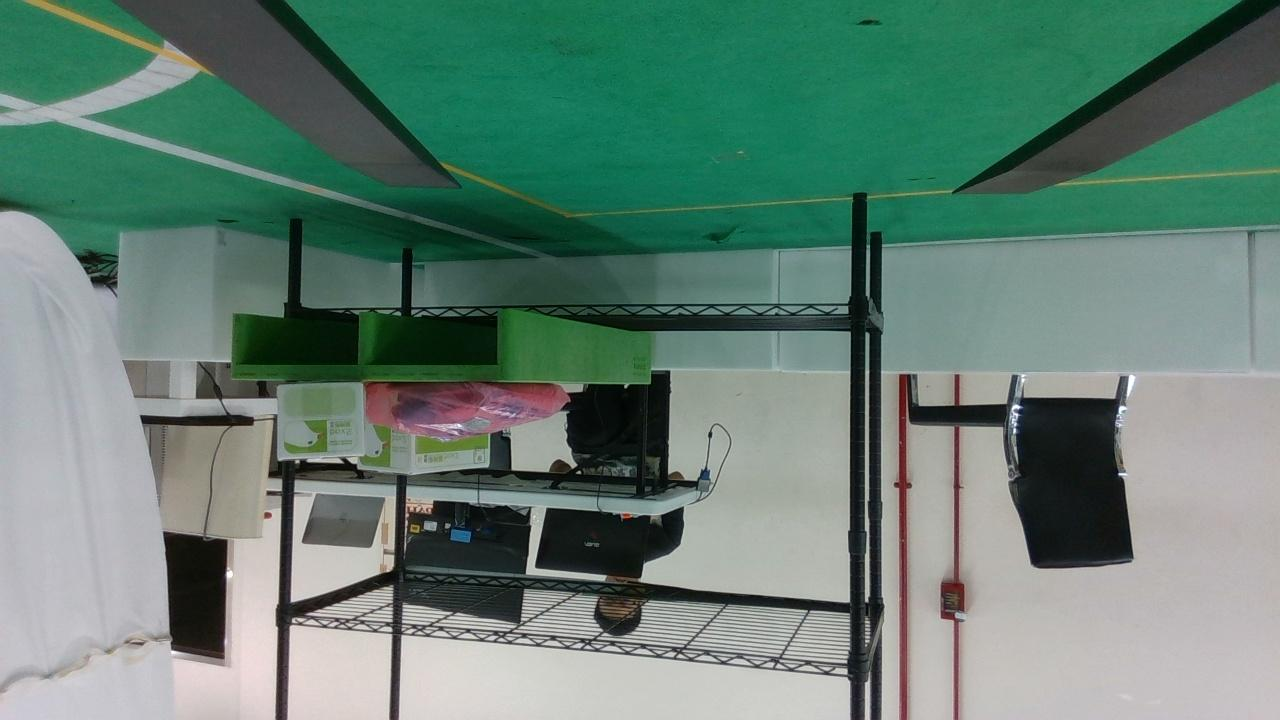Pallet: (230, 308, 519, 383)
